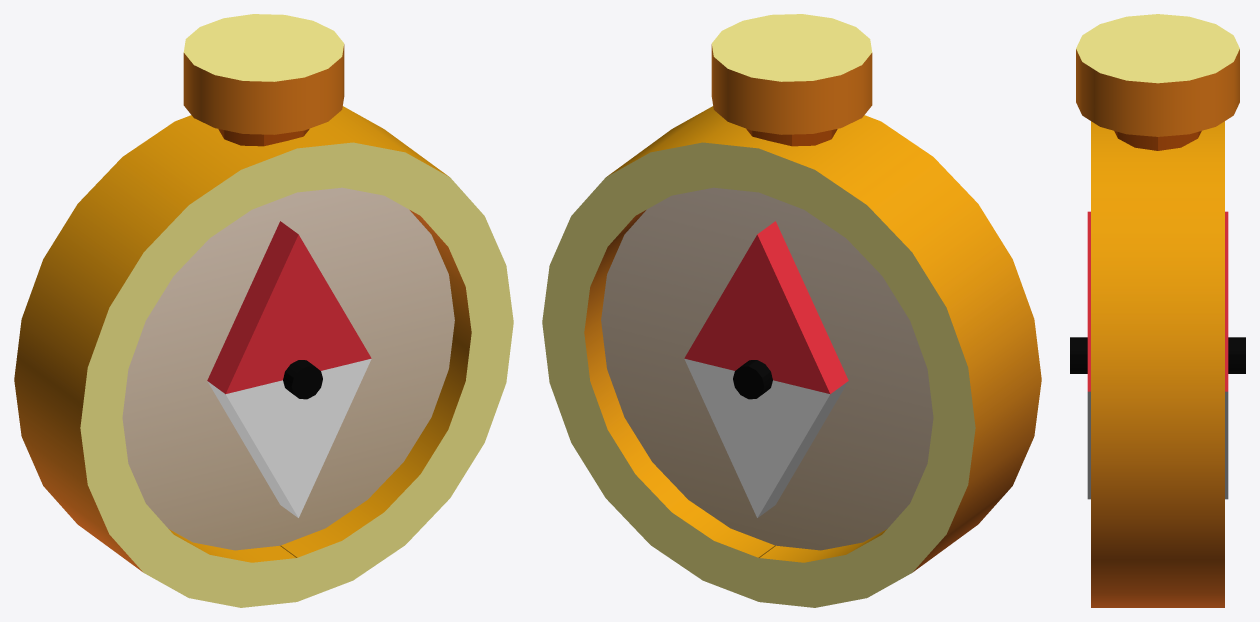
File: Compass.fbx
3 views of the same model, side by side, from view 1: azimuth 30°, elevation 25°; view 2: azimuth 150°, elevation 25°; view 3: azimuth 270°, elevation 25° (orthographic).
Parts seen in each view (by area): view 1: Compass; view 2: Compass; view 3: Compass.
Boxes of the visible parts, bbox=[...] form: Compass: bbox=[14, 14, 513, 607]; Compass: bbox=[542, 14, 1041, 607]; Compass: bbox=[1070, 14, 1245, 607].
Size of the model in its own units: 221 by 258 by 76.54.
